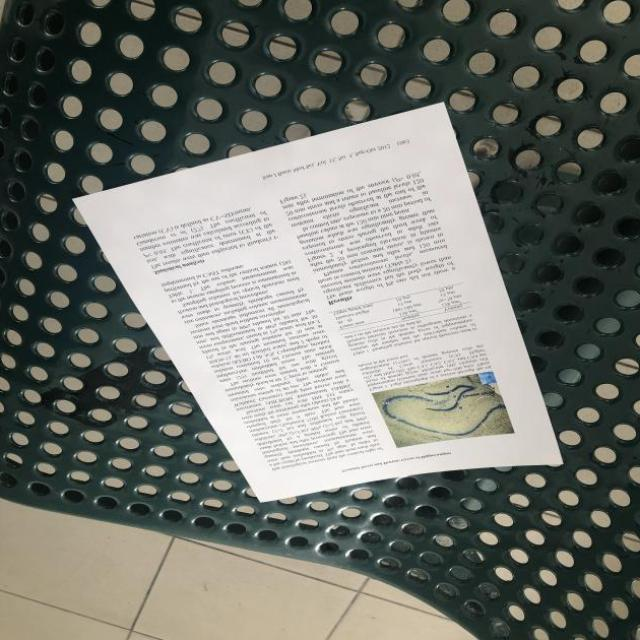kertas: (73, 96, 563, 566)
